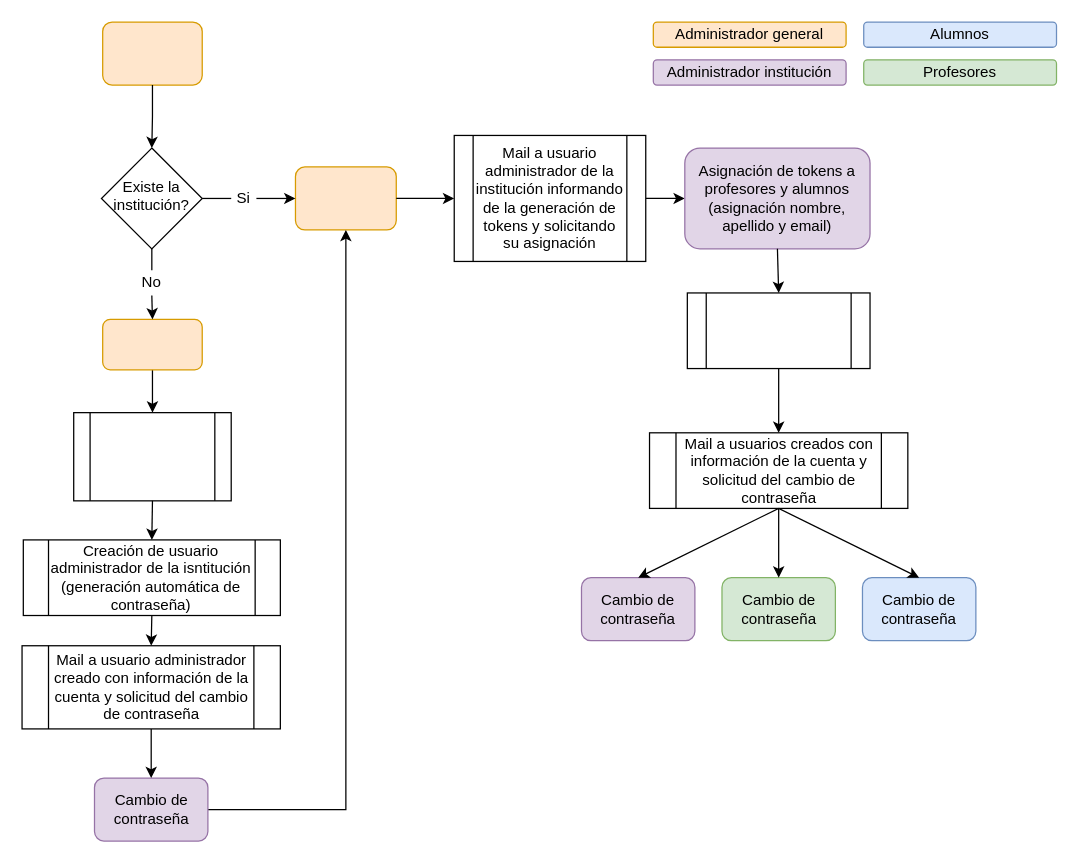
Some shapes in this 1079 by 863 pixel diagram are drawn without their labels. The centre of each missing label's shape, as x and y in pixels:
Asignar tokens a institución: the point at 345,198
Creación de usuarios (generación automática de contraseña): the point at 778,330
Crear institución: the point at 151,344
Ingresar a generación de tokens: the point at 151,53
Se asigna por default 1 token de administrador para la institución: the point at 151,456
